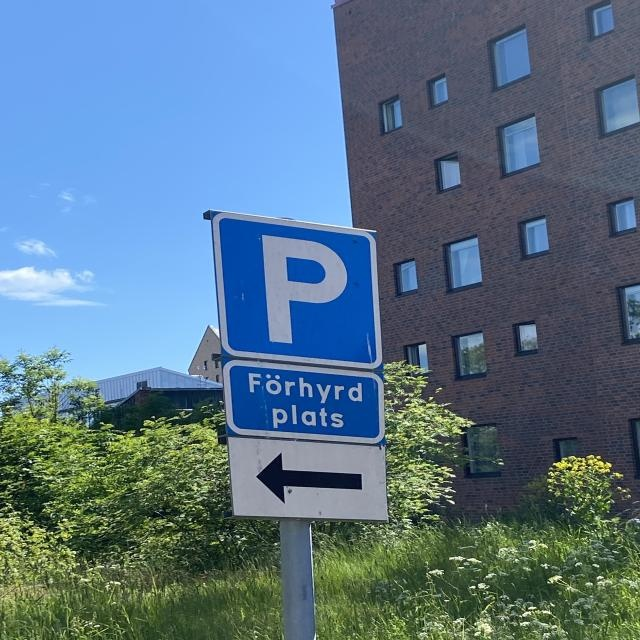P-skylt: (204, 204, 389, 372)
